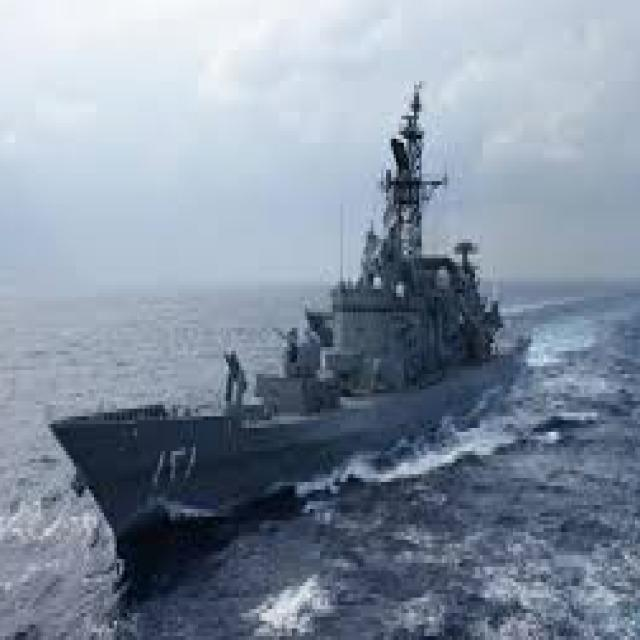navalvessels: (41, 96, 528, 566)
